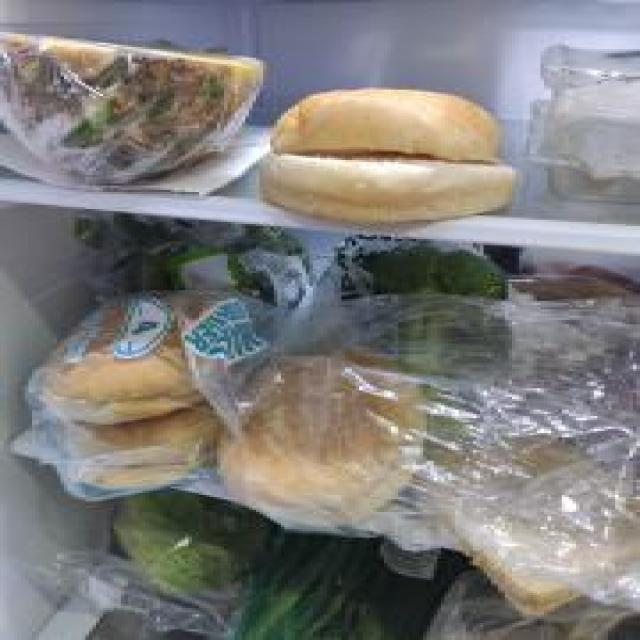broccoli: (364, 242, 510, 381)
green_beans: (220, 529, 448, 640)
pineapple: (0, 28, 267, 188)
salad: (114, 485, 281, 605)
